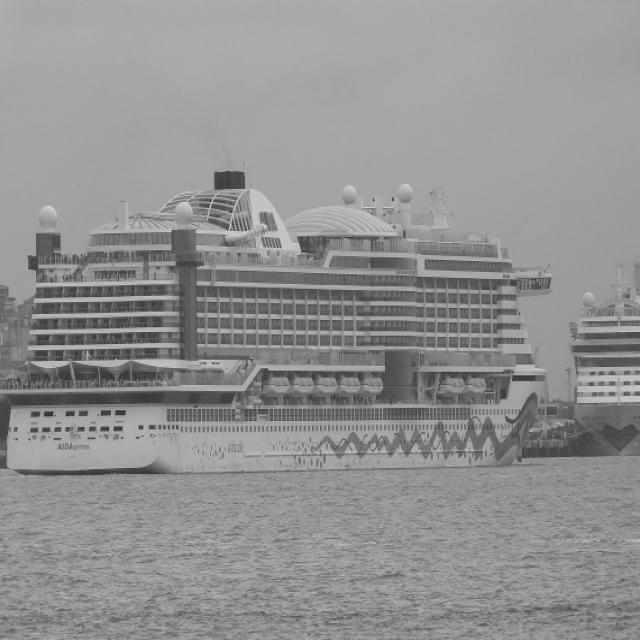cruises: (3, 180, 556, 480), (565, 276, 640, 463)
